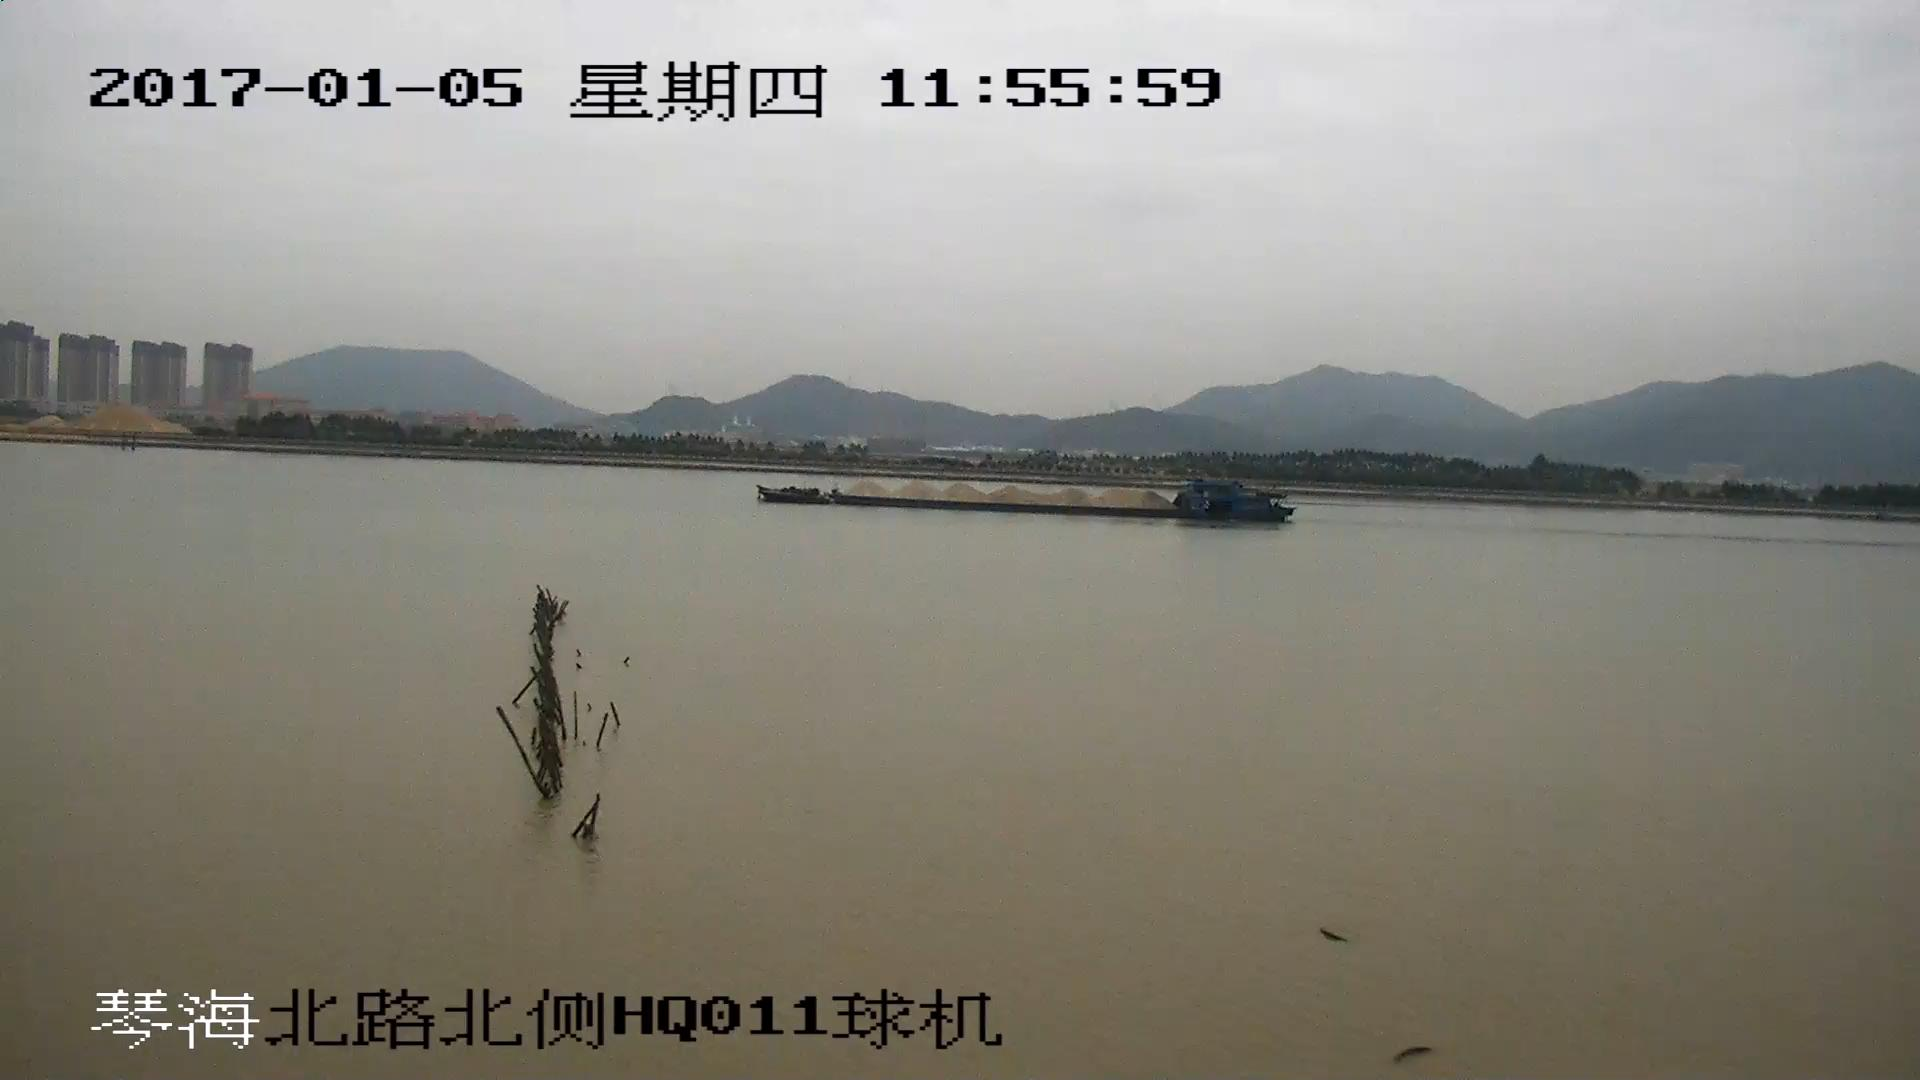ore carrier: (758, 480, 1292, 526)
